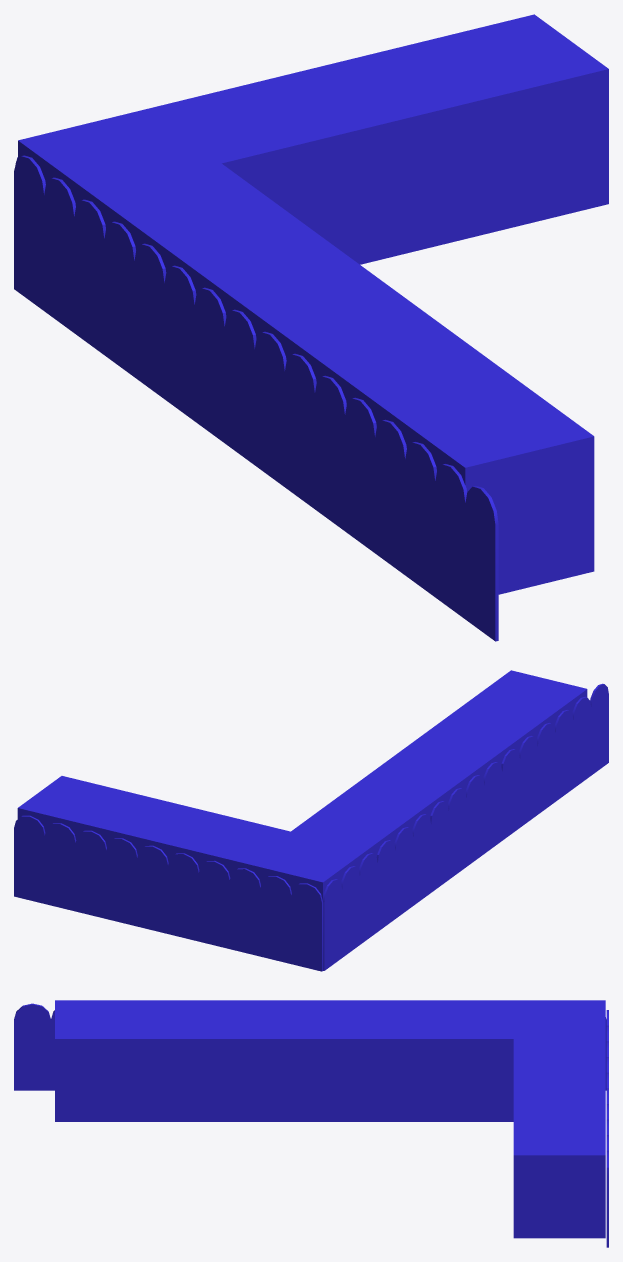
File: WABD_backgrounds_2ndfloor_r_lo.fbx
3 renders of one model, top to bottom at view 1: azimuth 30°, elevation 25°; view 2: azimuth 150°, elevation 25°; view 3: azimuth 270°, elevation 25°, orthographic. The views are drawn at different scales.
Parts seen in each view (by area): view 1: 2ndfloor_r_lo; view 2: 2ndfloor_r_lo; view 3: 2ndfloor_r_lo.
Part boxes in pixels (x1,y1,x2,y2): 2ndfloor_r_lo: [14, 14, 608, 641]; 2ndfloor_r_lo: [14, 670, 608, 971]; 2ndfloor_r_lo: [14, 1000, 608, 1247].
Size of the model in its own units: 810 by 220 by 1297.
